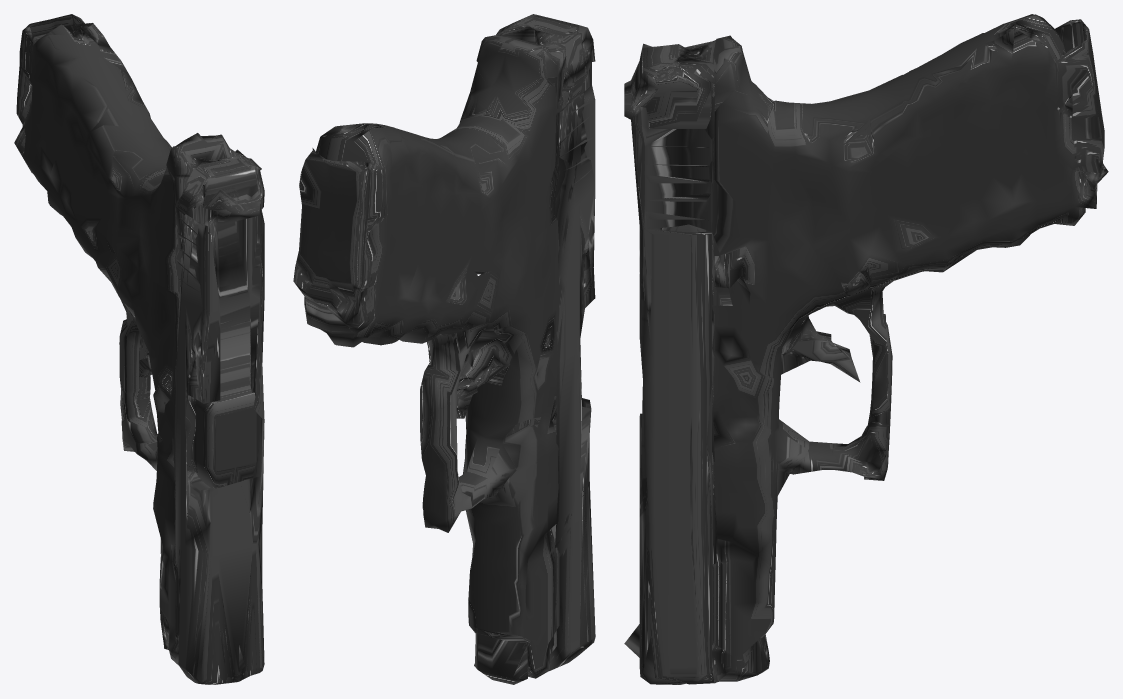
The model's file is glock_pistol.glb.
The picture shows the model from 3 angles, left to right: view 1: azimuth 30°, elevation 25°; view 2: azimuth 150°, elevation 25°; view 3: azimuth 270°, elevation 25°; orthographic projection. The views are drawn at different scales.
Parts seen in each view (by area): view 1: body; view 2: body; view 3: body.
Part boxes in pixels (x1=…): body: x1=14, y1=14, x2=264, y2=684; body: x1=293, y1=14, x2=595, y2=684; body: x1=624, y1=14, x2=1108, y2=684.
Bounding box in the file's own units: 0.0341 × 0.257 × 0.1732.
1 material, 1 textured.
